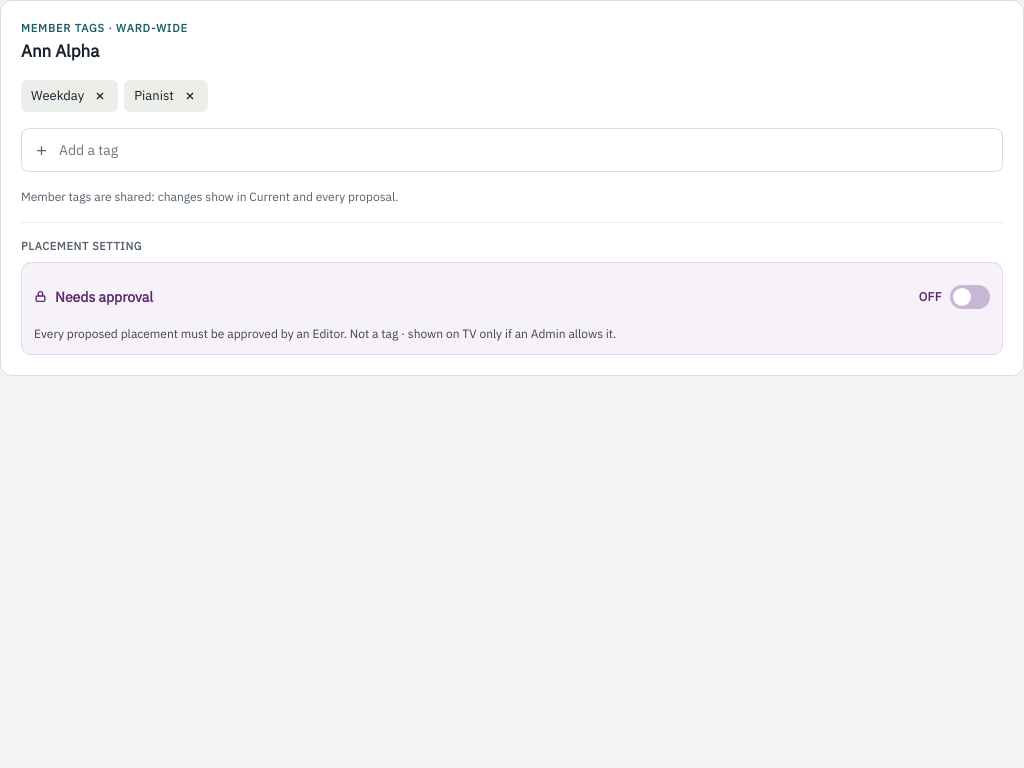
Test: MemberTagsEditor › a refused create does not add a tag and shows the message
In the dropdown labelled "Add a tag": (524, 150) [57, 130, 990, 170], type "Zed"
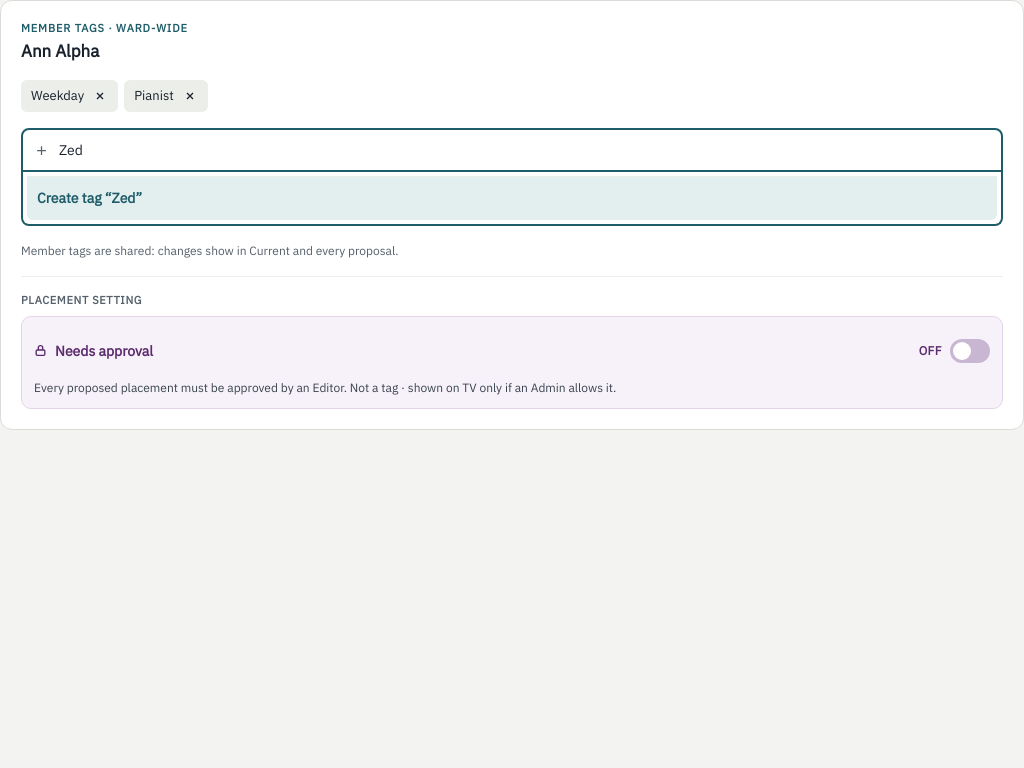
Click the option "Create tag “Zed”": (90, 198) [27, 176, 997, 220]
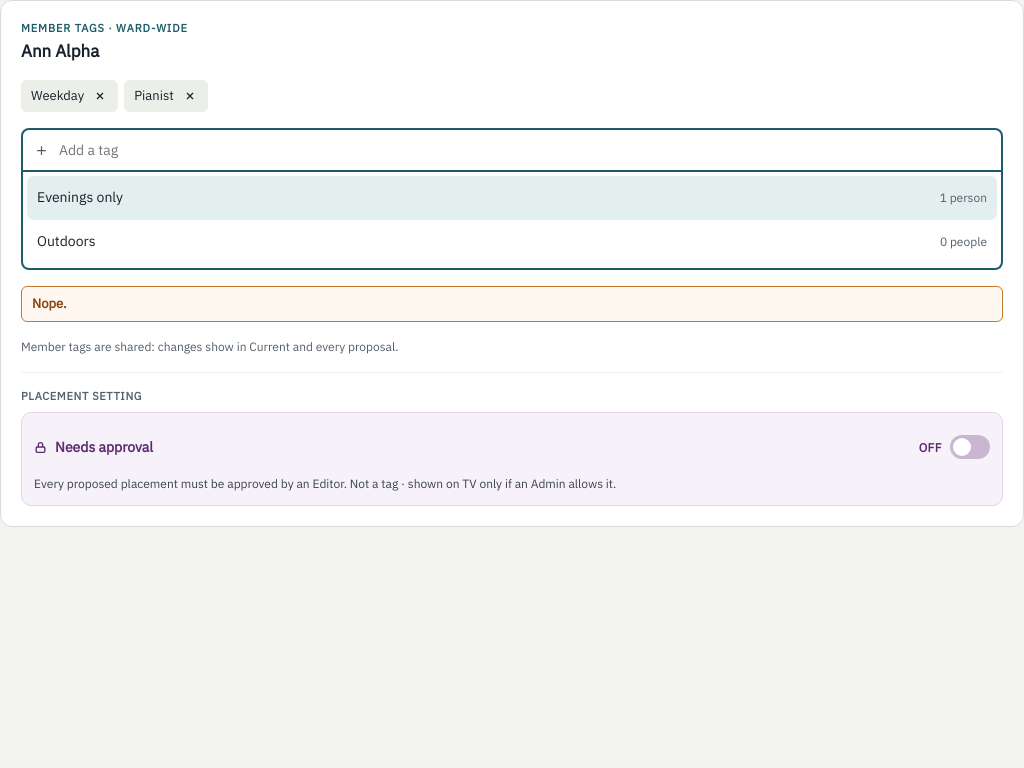
Check: the message reads "Nope.", box [32, 295, 66, 312]
